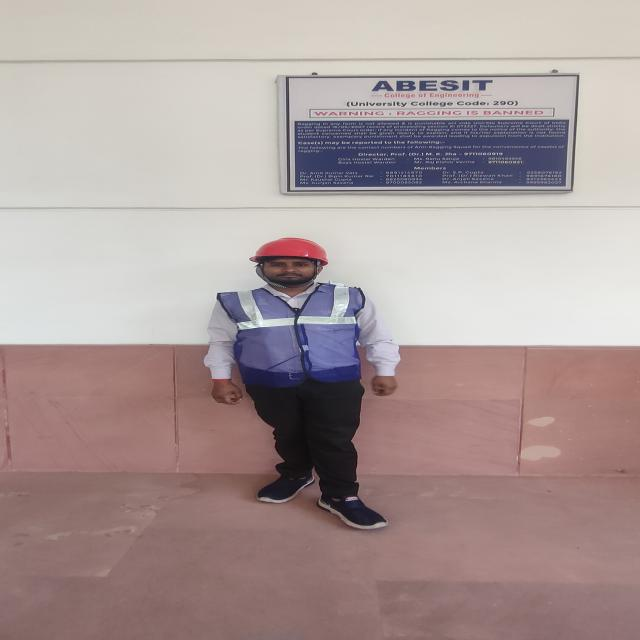safe: (204, 237, 399, 530)
